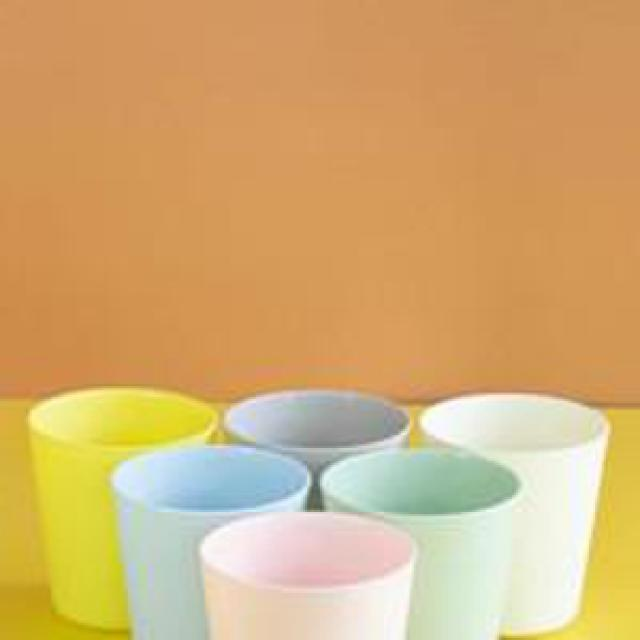plastic cup: (416, 390, 612, 640), (30, 384, 220, 636), (109, 439, 314, 640), (320, 446, 525, 640), (196, 507, 420, 640), (218, 382, 418, 508)
